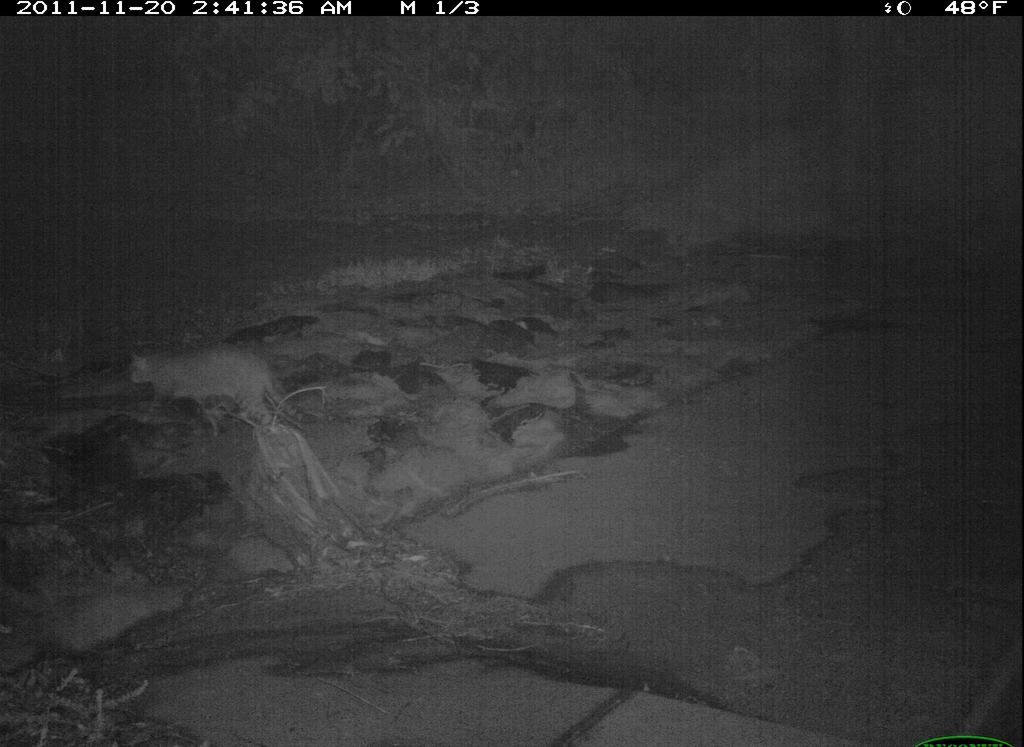cat: (123, 329, 335, 447)
